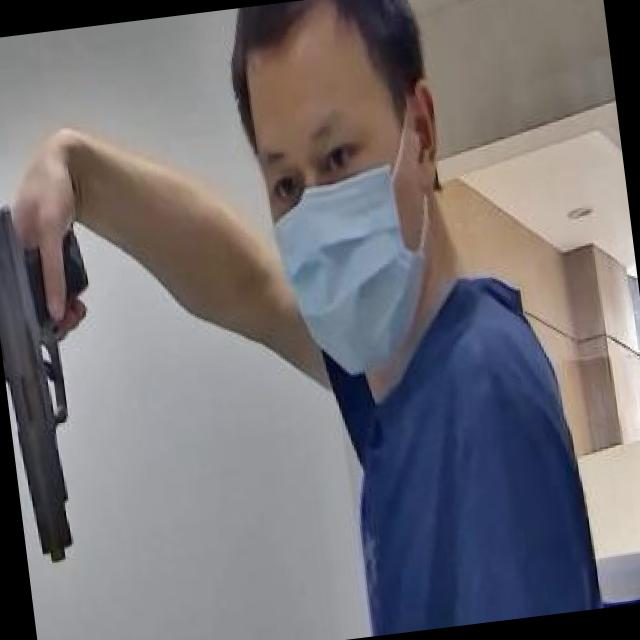Guns: (0, 144, 161, 583)
